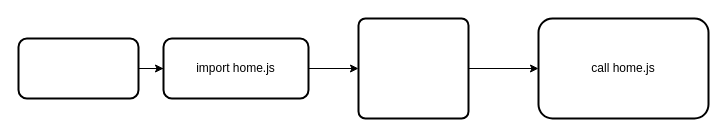
This 726x136 diagram has some shape labels left out. Each missing label, with the centre of its shape:
Add Event Listener for home button: pixel 413 68
create reference to div #content: pixel 78 68
